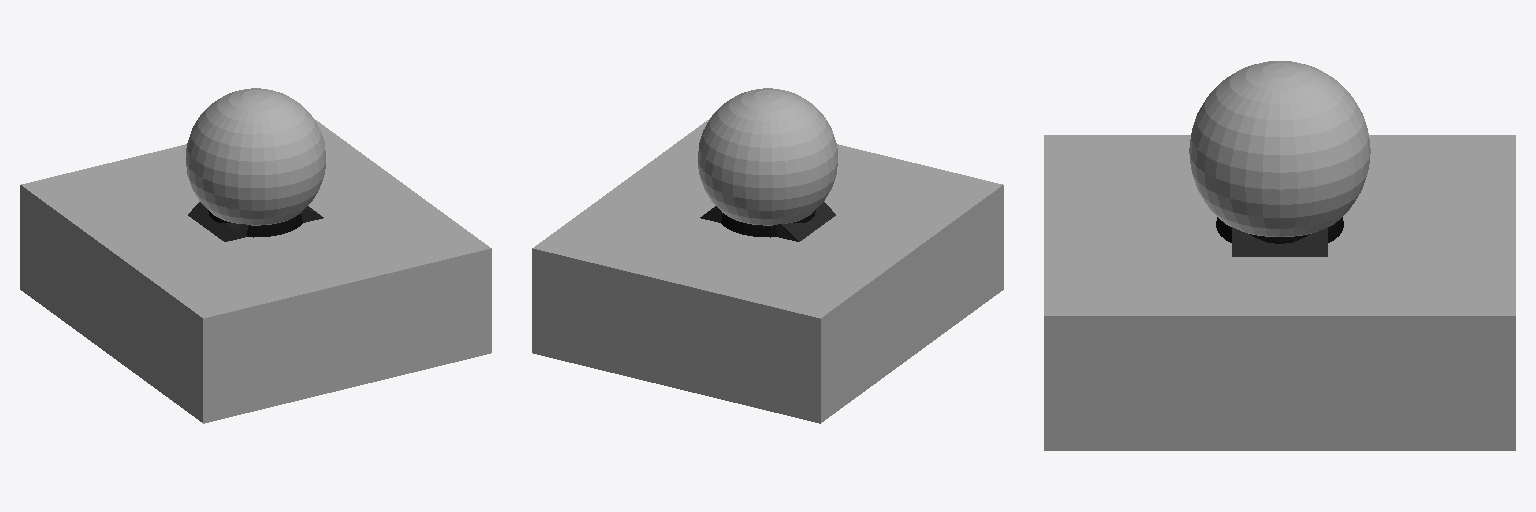
The robot description file, URDF, robot "evolved_robot":
<?xml version="1.0"?>
<robot name="evolved_robot">
  <material name="metal">
    <color rgba="0.7 0.7 0.7 1.0"/>
  </material>
  <material name="plastic">
    <color rgba="0.3 0.3 0.9 1.0"/>
  </material>
  <material name="rubber">
    <color rgba="0.1 0.1 0.1 1.0"/>
  </material>
  <material name="red">
    <color rgba="1.0 0.0 0.0 1.0"/>
  </material>
  <material name="wheel_material">
    <color rgba="0.2 0.2 0.2 1.0"/>
  </material>
  <link name="base_link">
    <visual>
      <geometry><box size="0.2606868513748192 0.2867757265282742 0.09088184607299822"/></geometry>
      <material name="metal"/>
    </visual>
    <collision>
      <geometry><box size="0.2606868513748192 0.2867757265282742 0.09088184607299822"/></geometry>
    </collision>
    <inertial>
      <mass value="5.0"/>
      <inertia ixx="0.07541652272621305" ixy="0" ixz="0" 
               iyy="0.06351428702112767" iyz="0" 
               izz="0.12516495983794715"/>
    </inertial>
  </link>
  <link name="link1">
    <visual>
      <geometry><sphere radius="0.038968192844657516"/></geometry>
      <material name="rubber"/>
    </visual>
    <collision>
      <geometry><sphere radius="0.038968192844657516"/></geometry>
    </collision>
    <inertial>
      <mass value="0.5"/>
      <inertia ixx="0.0006074080214313669" ixy="0" ixz="0" 
               iyy="0.0006074080214313669" iyz="0" 
               izz="0.0006074080214313669"/>
    </inertial>
  </link>
  <joint name="joint1" type="revolute">
    <parent link="base_link"/>
    <child link="link1"/>
    <origin xyz="0 0 0.04544092303649911" rpy="0 0 0"/>
    <axis xyz="-0.7869295096763519 -0.5598300733294514 -0.2594845579152587"/>
    <dynamics damping="0.6497527362487487" friction="0.1"/>
    <limit lower="-1.0535184502773653" upper="1.4084694643140252" effort="100" velocity="100"/>
  </joint>
  <link name="link2">
    <visual>
      <geometry>
        <cylinder radius="0.06408738979676629" length="0.05851877251396469"/>
      </geometry>
      <material name="wheel_material"/>
    </visual>
    <collision>
      <geometry>
        <cylinder radius="0.06408738979676629" length="0.05851877251396469"/>
      </geometry>
    </collision>
    <inertial>
      <mass value="1.0"/>
      <inertia ixx="0.001312168944119095" ixy="0" ixz="0" 
               iyy="0.001312168944119095" iyz="0" 
               izz="0.002053596765481332"/>
    </inertial>
  </link>
  <joint name="joint2" type="continuous">
    <parent link="base_link"/>
    <child link="link2"/>
    <origin xyz="0 0 0" rpy="1.5708 0 0"/>
    <axis xyz="0 1 0"/>
    <dynamics damping="0.6247021823949106" friction="0.1"/>
  </joint>
  <link name="link3">
    <visual>
      <geometry><sphere radius="0.05530700378083017"/></geometry>
      <material name="metal"/>
    </visual>
    <collision>
      <geometry><sphere radius="0.05530700378083017"/></geometry>
    </collision>
    <inertial>
      <mass value="0.5"/>
      <inertia ixx="0.0012235458668851053" ixy="0" ixz="0" 
               iyy="0.0012235458668851053" iyz="0" 
               izz="0.0012235458668851053"/>
    </inertial>
  </link>
  <joint name="joint3" type="floating">
    <parent link="base_link"/>
    <child link="link3"/>
    <origin xyz="0 0 0.09544092303649912" rpy="0 0 0"/>
    <axis xyz="0.8424799735549517 0.5385787966439699 0.012663884253302955"/>
    <dynamics damping="0.9386368848209998" friction="0.1"/>
  </joint>
</robot>

--- What the picture shows (computed from the rendered views, not written in the file) ---
3 views of the same robot in one strip: view 1: azimuth 30°, elevation 25°; view 2: azimuth 150°, elevation 25°; view 3: azimuth 270°, elevation 25° (orthographic).
Model evolved_robot with 4 links and 3 joints (1 revolute, 1 continuous, 1 floating), rooted at base_link, posed all joints at 0.
Visible links, largest first — view 1: base_link, link3, link2, link1; view 2: base_link, link3, link2, link1; view 3: base_link, link3, link2, link1.
Boxes of the visible links, box(x1,y1,x2,y2) form: base_link: box(20, 119, 491, 423); link3: box(186, 88, 325, 225); link2: box(188, 202, 323, 241); link1: box(208, 210, 302, 237); base_link: box(532, 119, 1003, 423); link3: box(698, 88, 837, 225); link2: box(700, 202, 835, 241); link1: box(721, 210, 815, 237); base_link: box(1044, 135, 1515, 450); link3: box(1189, 61, 1370, 236); link2: box(1232, 227, 1327, 256); link1: box(1216, 217, 1343, 243).
Bounding box of the posed robot: 0.2607 × 0.2868 × 0.2148 m (x, y, z).
Geometry: primitives only (box / cylinder / sphere), no mesh files.